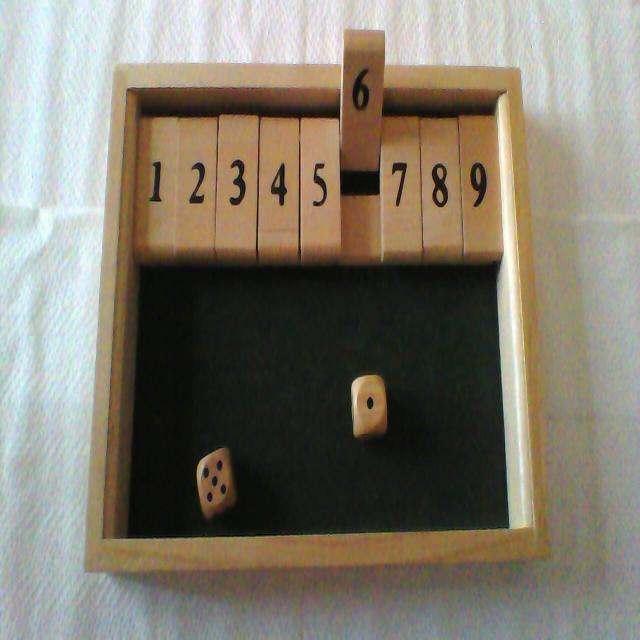1: (352, 375, 386, 434)
5: (193, 442, 237, 516)
C1: (134, 63, 175, 265)
C2: (176, 62, 217, 264)
C3: (217, 62, 258, 265)
C4: (259, 64, 299, 265)
C5: (301, 64, 339, 264)
C7: (383, 65, 421, 264)
C8: (422, 65, 462, 261)
C9: (460, 66, 504, 262)
O6: (342, 29, 385, 265)
